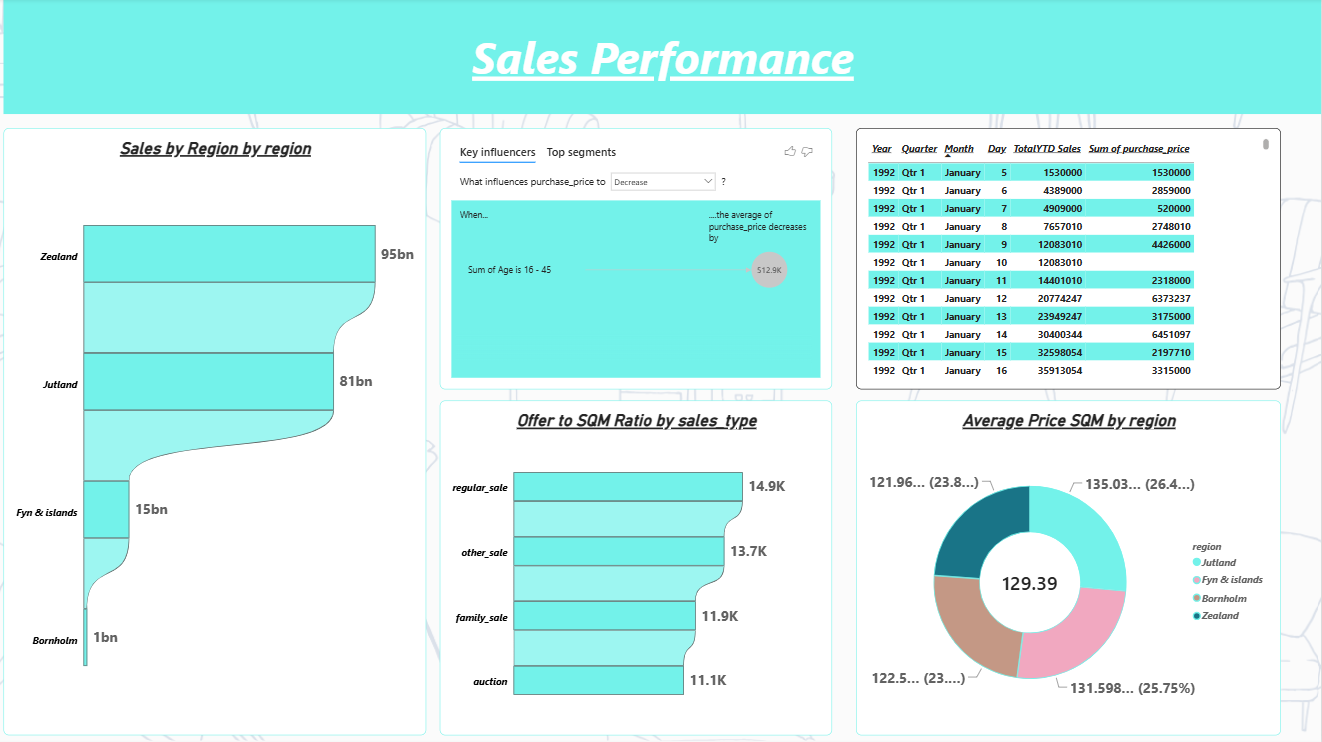

Layout of this report page (visuals, bound fields, positions):
{"tool":"powerbi","page":{"name":"Sales Perfomance","canvas":[1920,1080],"ordinal":1},"visuals":[{"type":"shape","box":[10.9,0,1909.2,168.3],"z":0},{"type":"barChart","fields":{"Category":["Housing.region"],"Y":["Measures Table.Sales by Region"]},"box":[10.9,188.2,611.7,879.5],"z":1000},{"type":"tableEx","fields":{"Values":["Housing.date.Variation.Date Hierarchy.Year","Housing.date.Variation.Date Hierarchy.Quarter","Housing.date.Variation.Date Hierarchy.Month","Housing.date.Variation.Date Hierarchy.Day","Measures Table.TotalYTD Sales","Sum(Housing.purchase_price)"]},"box":[1245,188.2,615.3,378.2],"z":2000},{"type":"donutChart","fields":{"Category":["Housing.region"],"Y":["Measures Table.Average Price SQM"]},"box":[1245,582.7,615.3,485],"z":3000},{"type":"keyDriversVisual","fields":{"ExplainBy":["Sum(Housing.Age)"],"Target":["Housing.purchase_price"]},"box":[642.4,188.2,568.2,378.2],"z":4000},{"type":"barChart","fields":{"Category":["Housing.sales_type"],"Y":["Measures Table.Offer to SQM Ratio"]},"box":[642.4,582.7,568.2,485],"z":5000}]}

Visuals, with their boxes in screenshot pixels (x1, y1, x2, y2), scaled from the page's 1920x1080 canvas onto the 1322x742 screenshot:
shape: detection(8, 0, 1321, 116)
barChart - Housing.region x Measures Table.Sales by Region: detection(8, 129, 429, 734)
tableEx - Housing.date.Variation.Date Hierarchy.Year x Housing.date.Variation.Date Hierarchy.Quarter: detection(857, 129, 1281, 389)
donutChart - Housing.region x Measures Table.Average Price SQM: detection(857, 400, 1281, 734)
keyDriversVisual - Sum(Housing.Age) x Housing.purchase_price: detection(442, 129, 834, 389)
barChart - Housing.sales_type x Measures Table.Offer to SQM Ratio: detection(442, 400, 834, 734)
